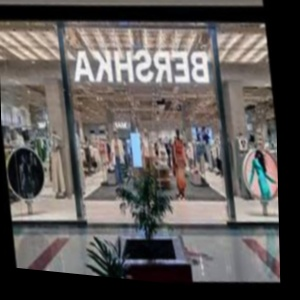bershka: (177, 13, 247, 76)
